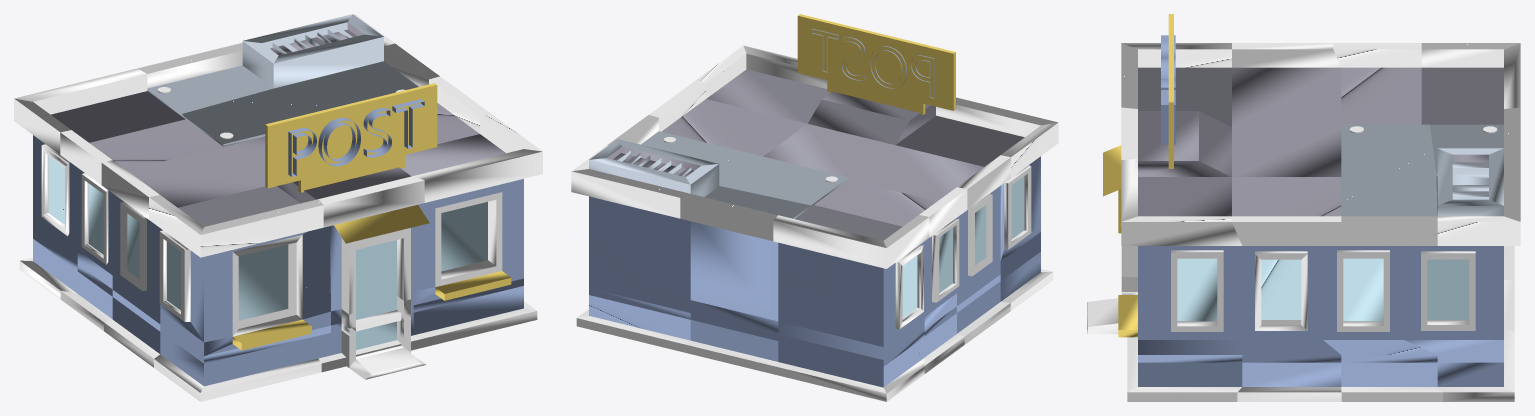
Rendered from post.glb.
3 views of the same model, side by side, from view 1: azimuth 30°, elevation 25°; view 2: azimuth 150°, elevation 25°; view 3: azimuth 270°, elevation 25° (orthographic). The views are drawn at different scales.
Parts seen in each view (by area): view 1: T_3; view 2: T_3; view 3: T_3.
Part boxes in pixels (x1,y1,x2,y2): T_3: (14, 14, 542, 401); T_3: (571, 14, 1058, 401); T_3: (1087, 14, 1520, 401).
Bounding box in the file's own units: 0.3066 × 0.2059 × 0.3141.
